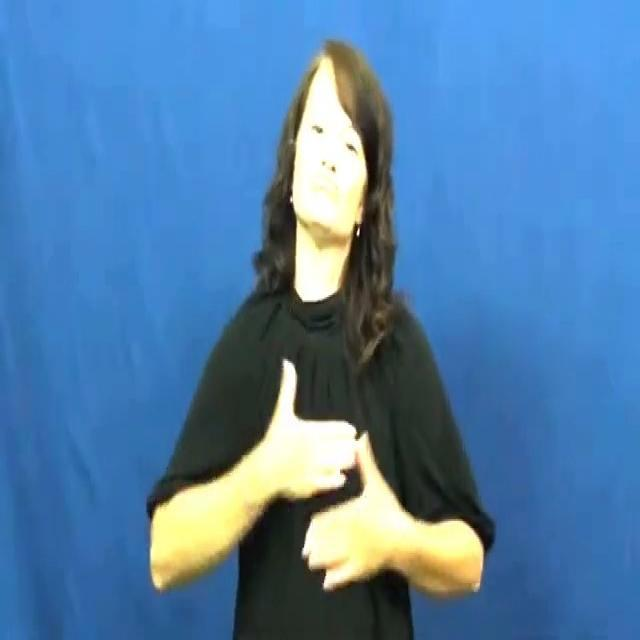enjoy: (260, 348, 406, 601)
